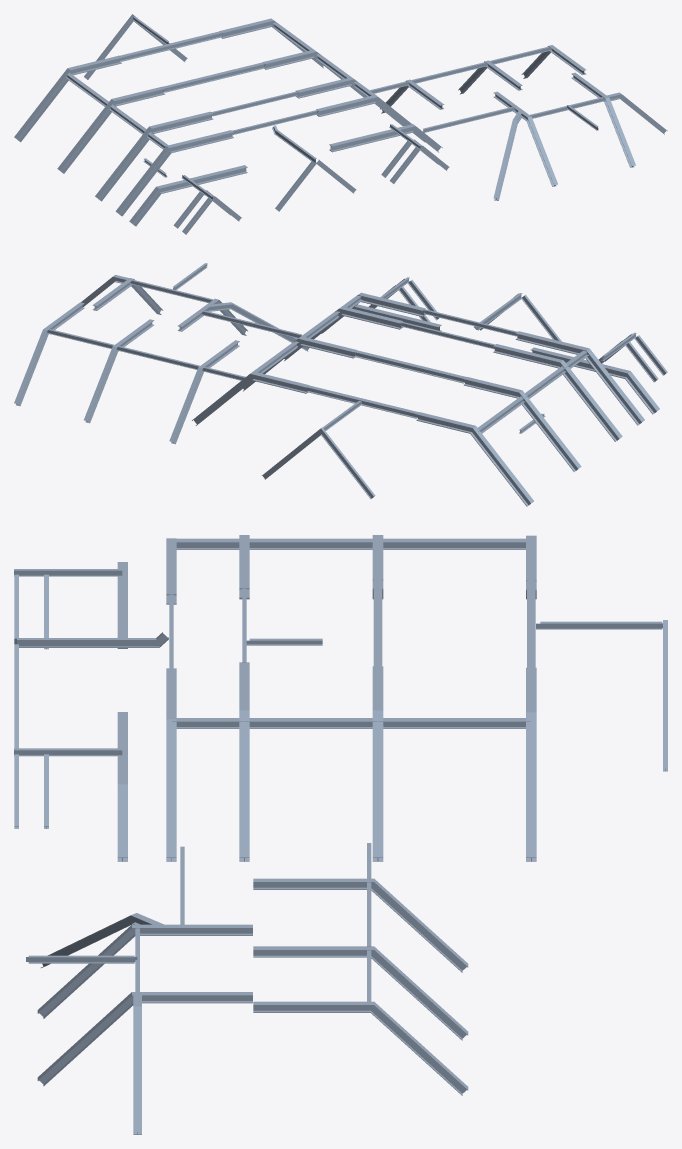
The model's file is stage-5.glb.
3 views of the same model, one above another, from view 1: azimuth 30°, elevation 25°; view 2: azimuth 150°, elevation 25°; view 3: azimuth 270°, elevation 25° (orthographic). The views are drawn at different scales.
Parts seen in each view (by area): view 1: Geom3D; view 2: Geom3D; view 3: Geom3D.
Part boxes in pixels (<box>): Geom3D: <box>14,14,667,234</box>; Geom3D: <box>14,263,667,506</box>; Geom3D: <box>14,535,667,1134</box>.
Size of the model in its own units: 33.37 by 6.13 by 19.72.
